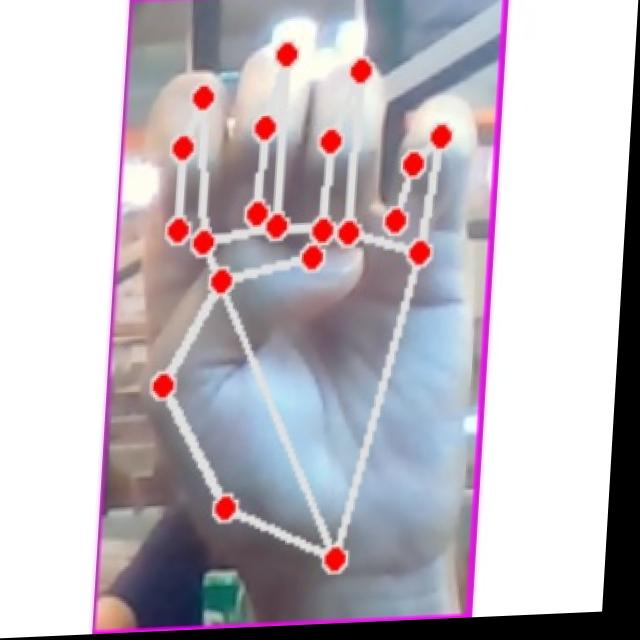E: (121, 30, 489, 591)
